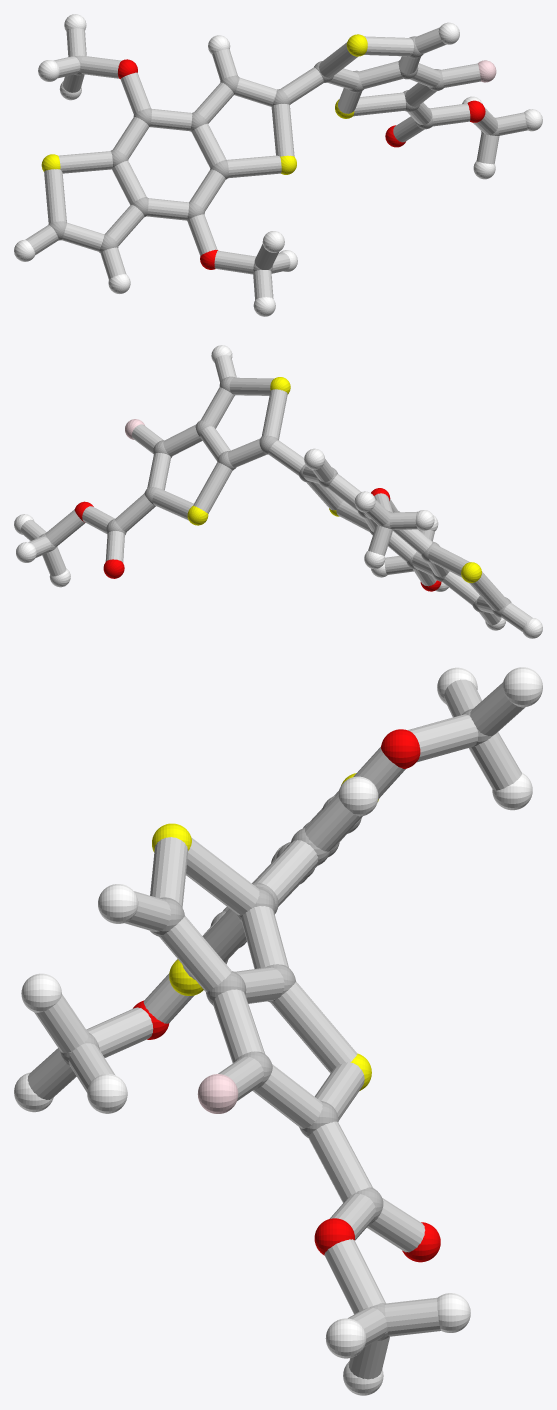
Rendered from Dimethoxy_Benzodithiophene_Phi_25_Theta_80_Methylcarbonyl_3_Fluoro_Thienothiophene.glb.
3 views of the same model, one above another, from view 1: azimuth 30°, elevation 25°; view 2: azimuth 150°, elevation 25°; view 3: azimuth 270°, elevation 25° (orthographic). The views are drawn at different scales.
Visible parts, largest first — view 1: grp15205, grp8689, grp1, grp13395, grp7241; view 2: grp15205, grp8689, grp1, grp7241, grp13395; view 3: grp15205, grp8689, grp1, grp13395, grp7241, grp14843.
Part boxes in pixels (x1,y1,x2,y2): grp15205: (25, 27, 527, 299); grp8689: (14, 14, 542, 316); grp1: (48, 36, 499, 271); grp13395: (118, 59, 485, 269); grp7241: (41, 34, 367, 174); grp15205: (20, 355, 532, 631); grp8689: (14, 345, 542, 638); grp1: (39, 376, 511, 617); grp7241: (187, 377, 481, 582); grp13395: (74, 488, 441, 591); grp15205: (27, 679, 525, 1379); grp8689: (14, 667, 542, 1395); grp1: (60, 708, 492, 1340); grp13395: (133, 729, 440, 1262); grp7241: (152, 773, 378, 1090); grp14843: (197, 1074, 238, 1113).
Size of the model in its own units: 16.81 by 6.81 by 7.83.
